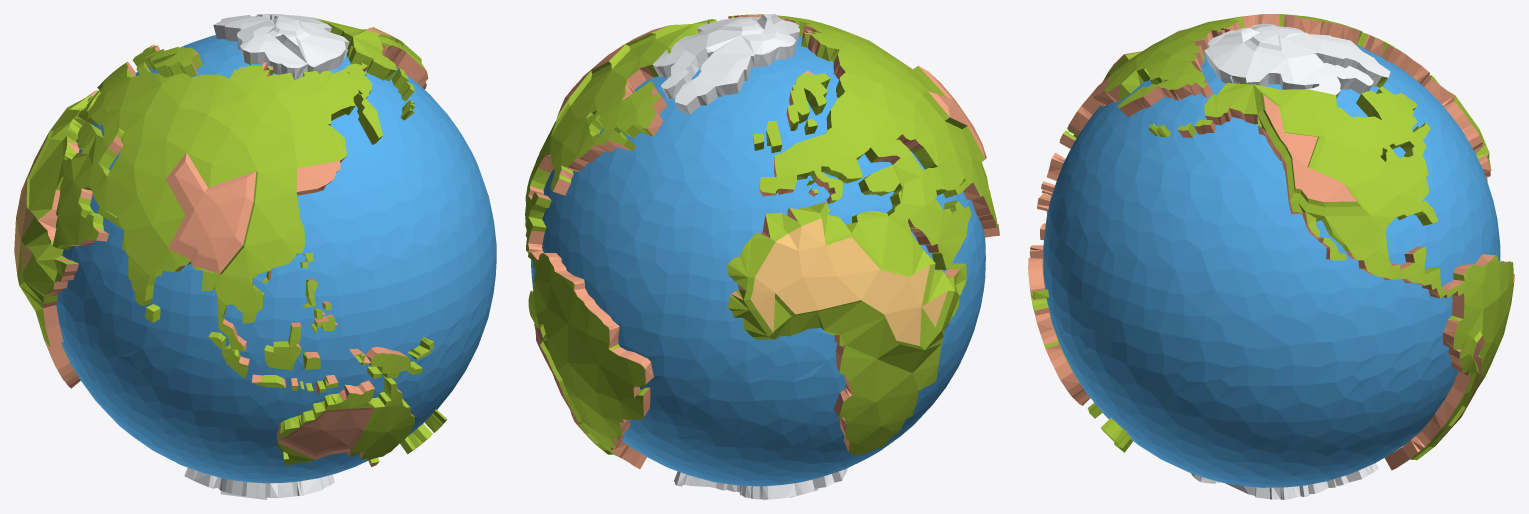
The picture shows the model from 3 angles, left to right: view 1: azimuth 30°, elevation 25°; view 2: azimuth 150°, elevation 25°; view 3: azimuth 270°, elevation 25°; orthographic projection.
Visible parts, largest first — view 1: Object_Planet_0; view 2: Object_Planet_0; view 3: Object_Planet_0.
Part boxes in pixels (x1=…): Object_Planet_0: x1=14, y1=14, x2=496, y2=499; Object_Planet_0: x1=525, y1=14, x2=999, y2=499; Object_Planet_0: x1=1028, y1=14, x2=1514, y2=499.
Size of the model in its own units: 2.08 by 2.23 by 2.11.
Materials: 1 (1 with a texture image).
